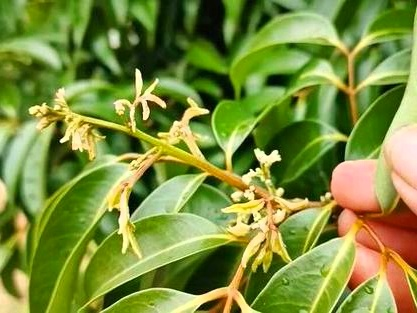Gall_Mite: (54, 91, 306, 224)
